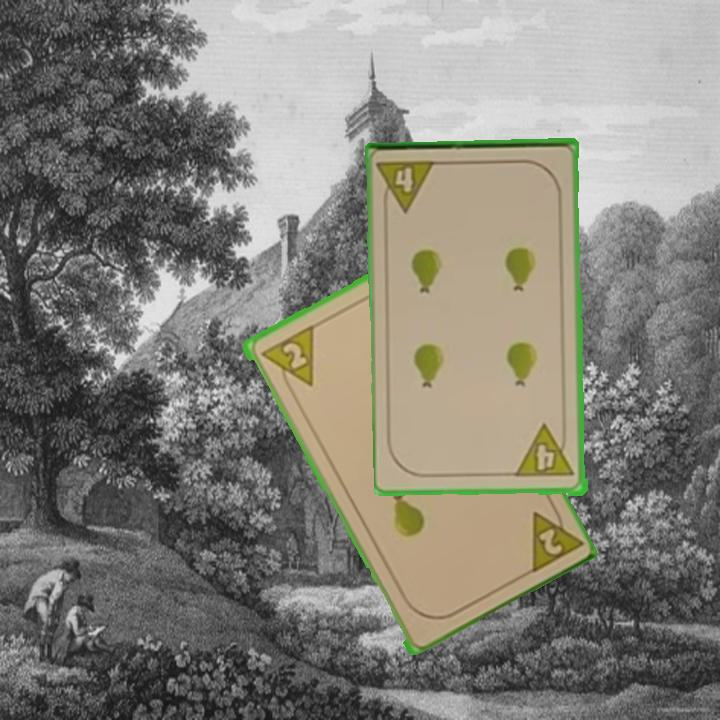2p: (523, 497, 583, 577), (256, 322, 317, 397)
4p: (374, 157, 439, 216), (514, 423, 578, 481)
